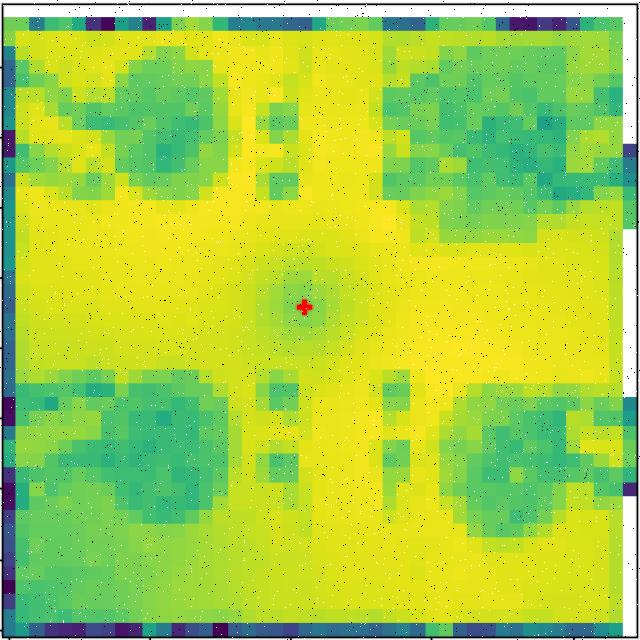Concrete: (95, 369, 226, 522)
Glass: (434, 386, 572, 542)
Metal: (405, 45, 574, 233)
Wood: (88, 45, 231, 205)
